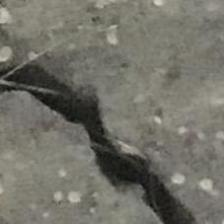Crack: (0, 9, 220, 224)
